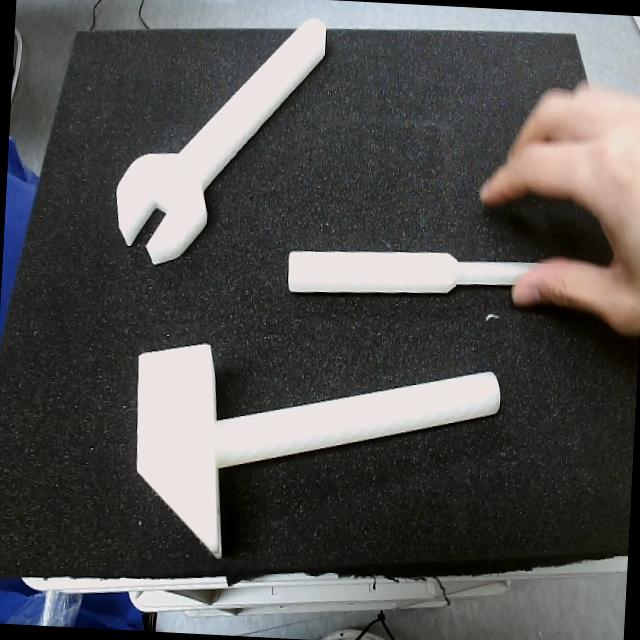Hammer: (136, 344, 503, 559)
Spanner: (115, 19, 326, 267)
